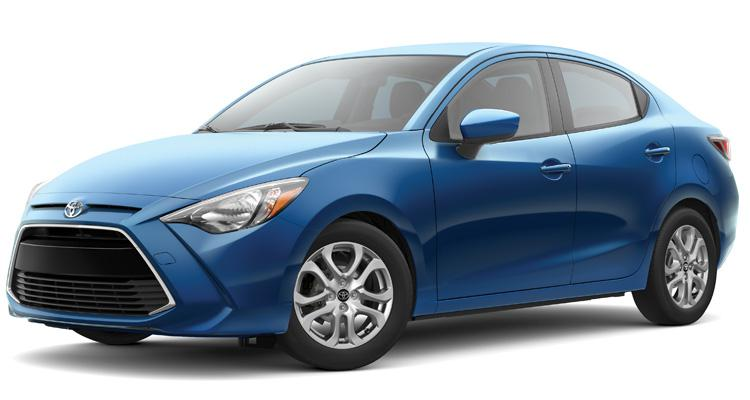car: (4, 39, 739, 397)
